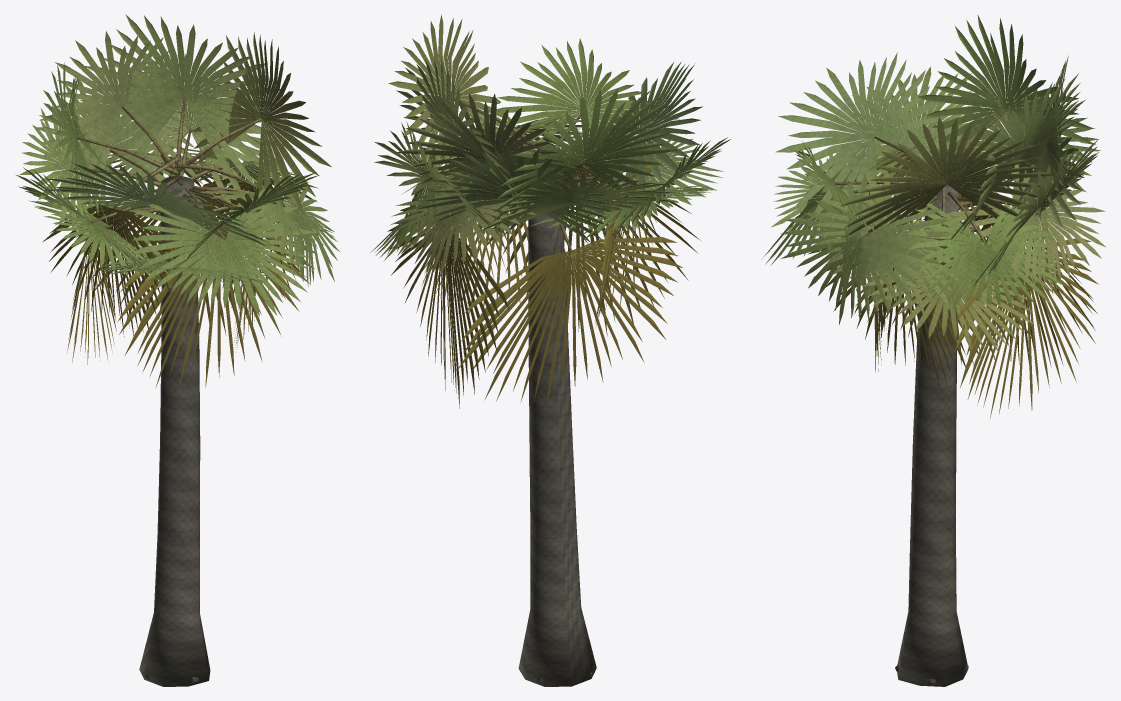
File: Palmyra_Karimpana.glb
The picture shows the model from 3 angles, left to right: view 1: azimuth 30°, elevation 25°; view 2: azimuth 150°, elevation 25°; view 3: azimuth 270°, elevation 25°; orthographic projection. The views are drawn at different scales.
Visible parts, largest first — view 1: Palmyra_Karimpana; view 2: Palmyra_Karimpana; view 3: Palmyra_Karimpana.
Boxes of the visible parts, box(x1,y1,x2,y2) form: Palmyra_Karimpana: box(15, 14, 339, 686); Palmyra_Karimpana: box(370, 14, 730, 686); Palmyra_Karimpana: box(761, 15, 1106, 686).
Size of the model in its own units: 5.11 by 10.3 by 5.28.
Materials: 2 (2 with a texture image).
